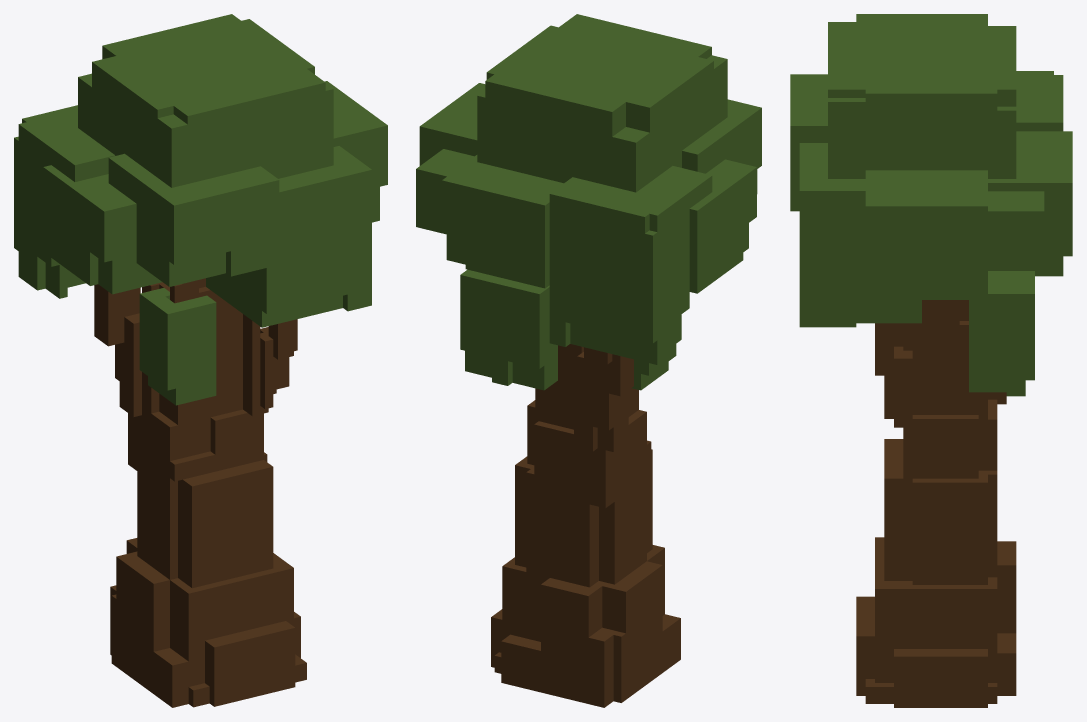
File: Tree2.fbx
3 views of the same model, side by side, from view 1: azimuth 30°, elevation 25°; view 2: azimuth 150°, elevation 25°; view 3: azimuth 270°, elevation 25° (orthographic). The views are drawn at different scales.
Visible parts, largest first — view 1: Tree2.Merged; view 2: Tree2.Merged; view 3: Tree2.Merged.
Boxes of the visible parts, box(x1,y1,x2,y2) form: Tree2.Merged: box(14, 14, 387, 707); Tree2.Merged: box(416, 14, 761, 707); Tree2.Merged: box(790, 14, 1072, 707).
Size of the model in its own units: 700 by 1440 by 600.
